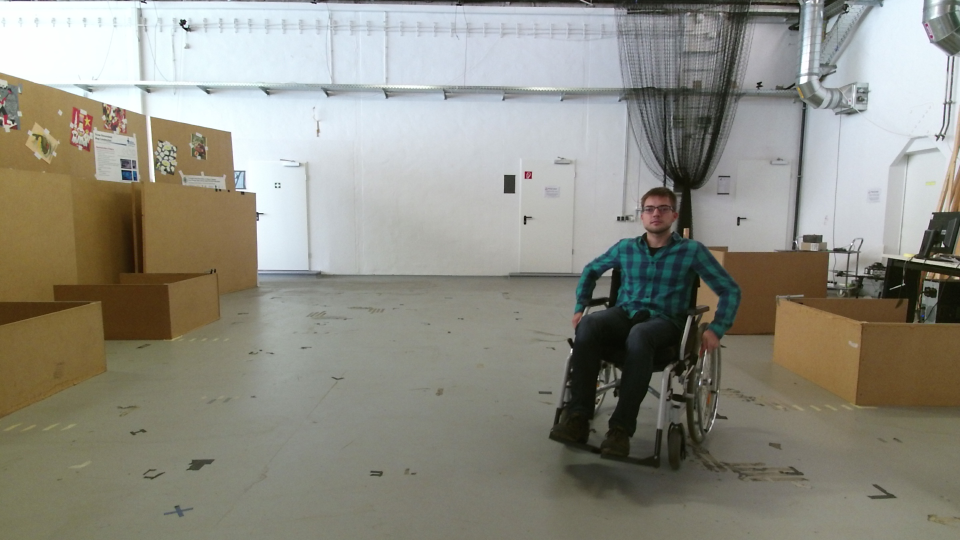wheelchair: (555, 177, 723, 471)
